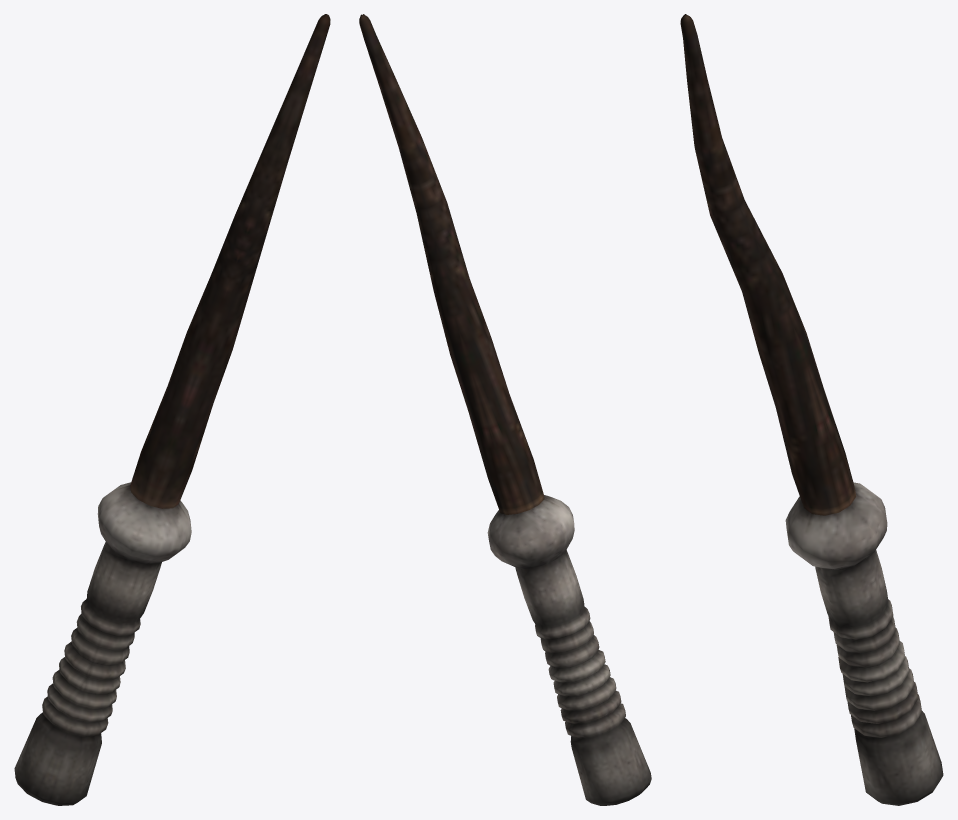
The model's file is MagicWand.fbx.
3 views of the same model, side by side, from view 1: azimuth 30°, elevation 25°; view 2: azimuth 210°, elevation 25°; view 3: azimuth 270°, elevation 25° (orthographic). The views are drawn at different scales.
Visible parts, largest first — view 1: Cylinder002; view 2: Cylinder002; view 3: Cylinder002.
Boxes of the visible parts, box(x1,y1,x2,y2) form: Cylinder002: box(14, 14, 330, 805); Cylinder002: box(359, 14, 651, 805); Cylinder002: box(680, 14, 943, 805).
Bounding box in the file's own units: 1.08 × 4.03 × 1.1.
1 material, 1 textured.
